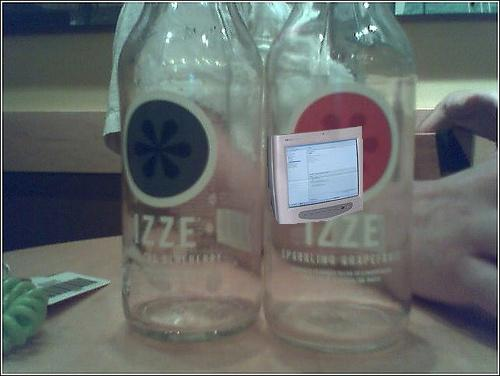tampered: (268, 127, 363, 224)
